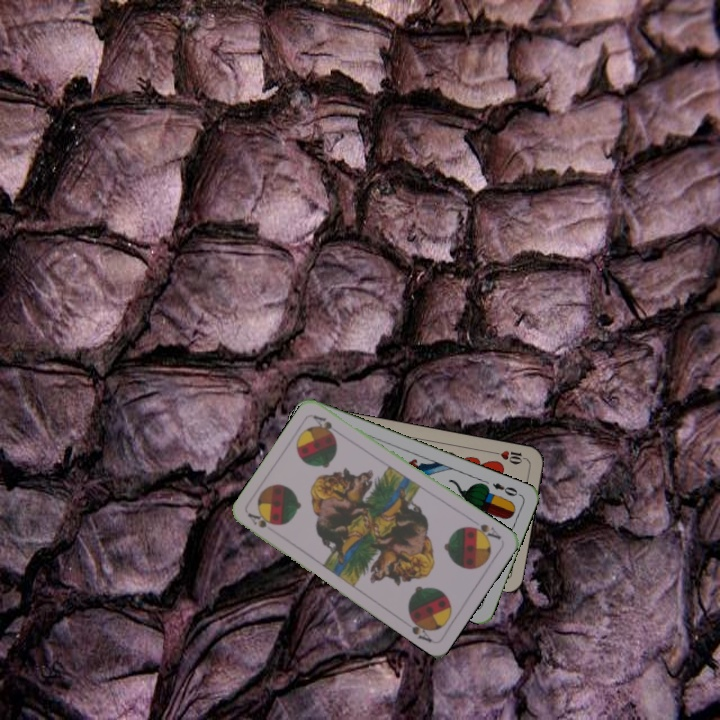EO: (488, 478, 523, 499)
H10: (488, 446, 529, 467)
SA: (465, 520, 504, 543), (244, 509, 279, 531)
